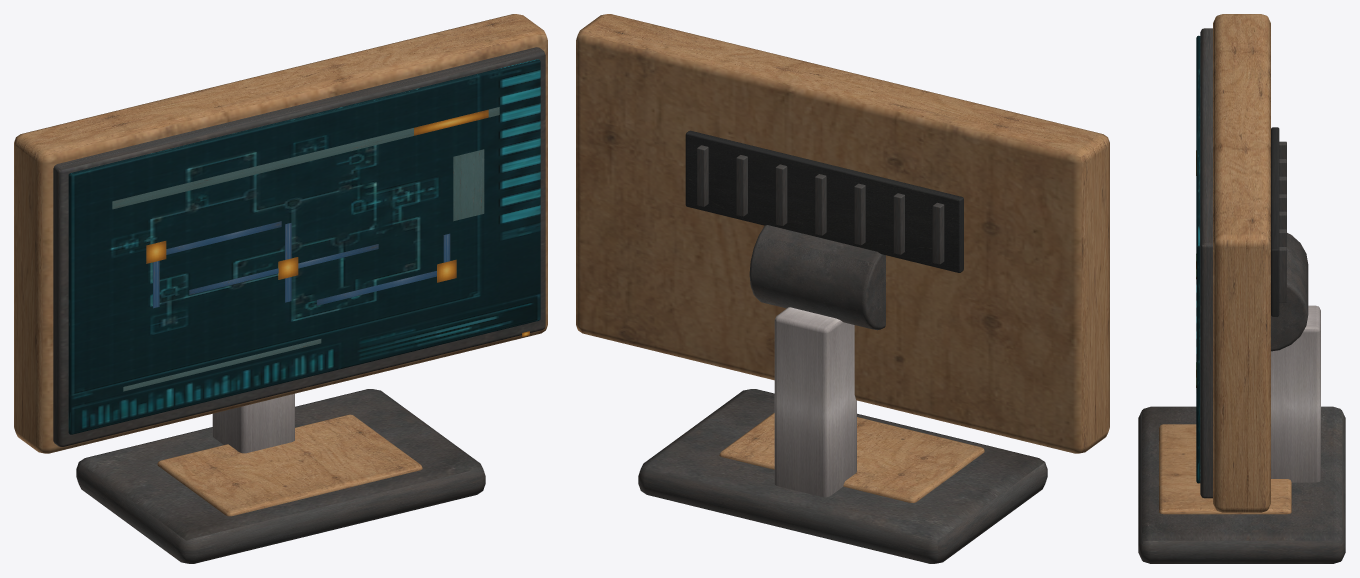
The model's file is SM_FacilityRooms_DeskMonitor.fbx.
The picture shows the model from 3 angles, left to right: view 1: azimuth 30°, elevation 25°; view 2: azimuth 150°, elevation 25°; view 3: azimuth 270°, elevation 25°; orthographic projection. The views are drawn at different scales.
Parts seen in each view (by area): view 1: SM_FacilityRooms_DeskMonitor; view 2: SM_FacilityRooms_DeskMonitor; view 3: SM_FacilityRooms_DeskMonitor.
Part boxes in pixels (left/top/right/bottom): SM_FacilityRooms_DeskMonitor: left=14, top=14, right=547, bottom=563; SM_FacilityRooms_DeskMonitor: left=576, top=14, right=1109, bottom=563; SM_FacilityRooms_DeskMonitor: left=1138, top=14, right=1345, bottom=563.
Size of what is drawn, in the model's own units: 65 by 25 by 50.
